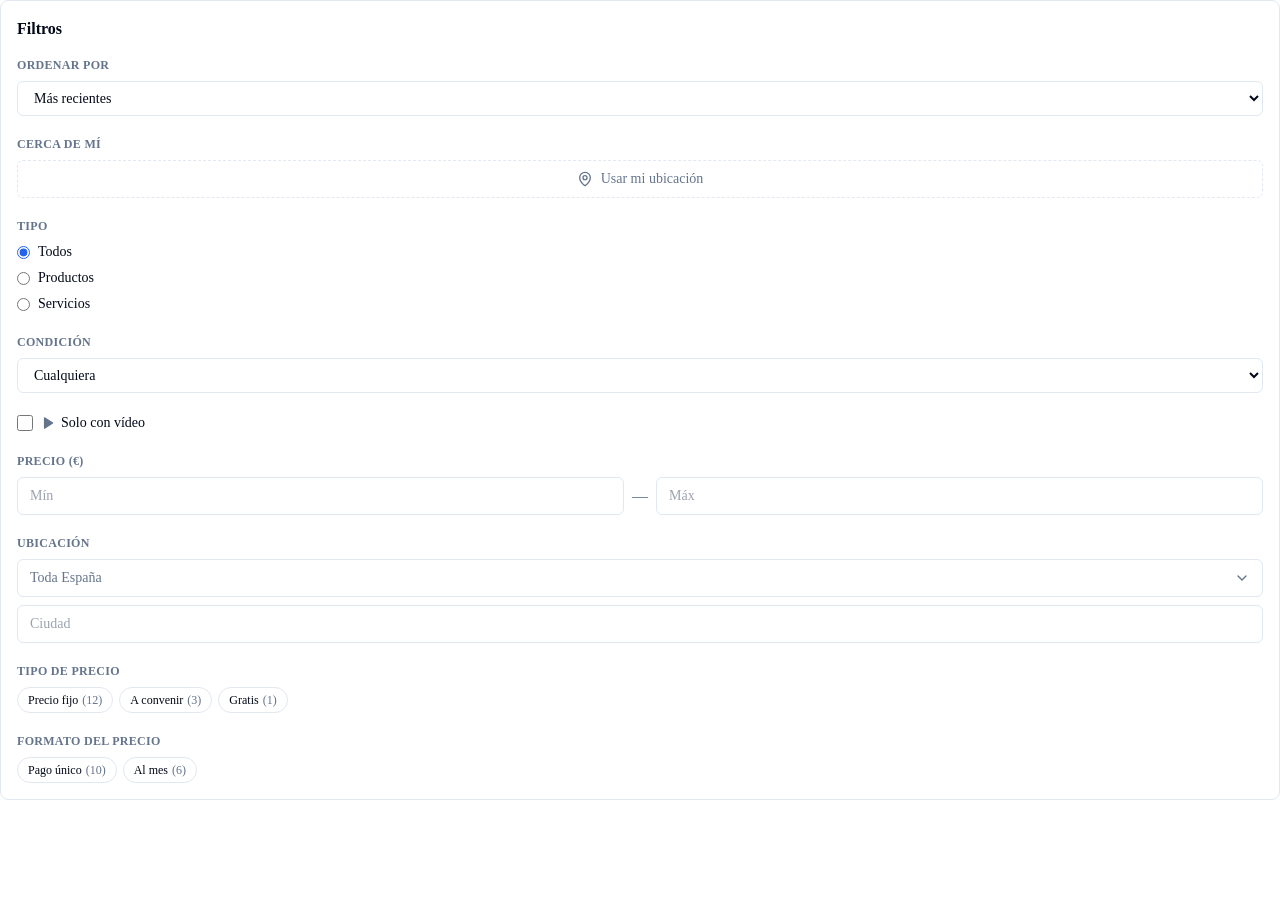
Test: B3 — hay UN solo filtro de provincia, y es el selector «Ubicación» › el control «Ubicación» sigue intacto, con sus provincias
expect the text "Ubicación" is shown: met, box [17,536,90,550]
Click the button with aria-label "Provincia".
click(66, 578)  # box [17,559,1263,597]
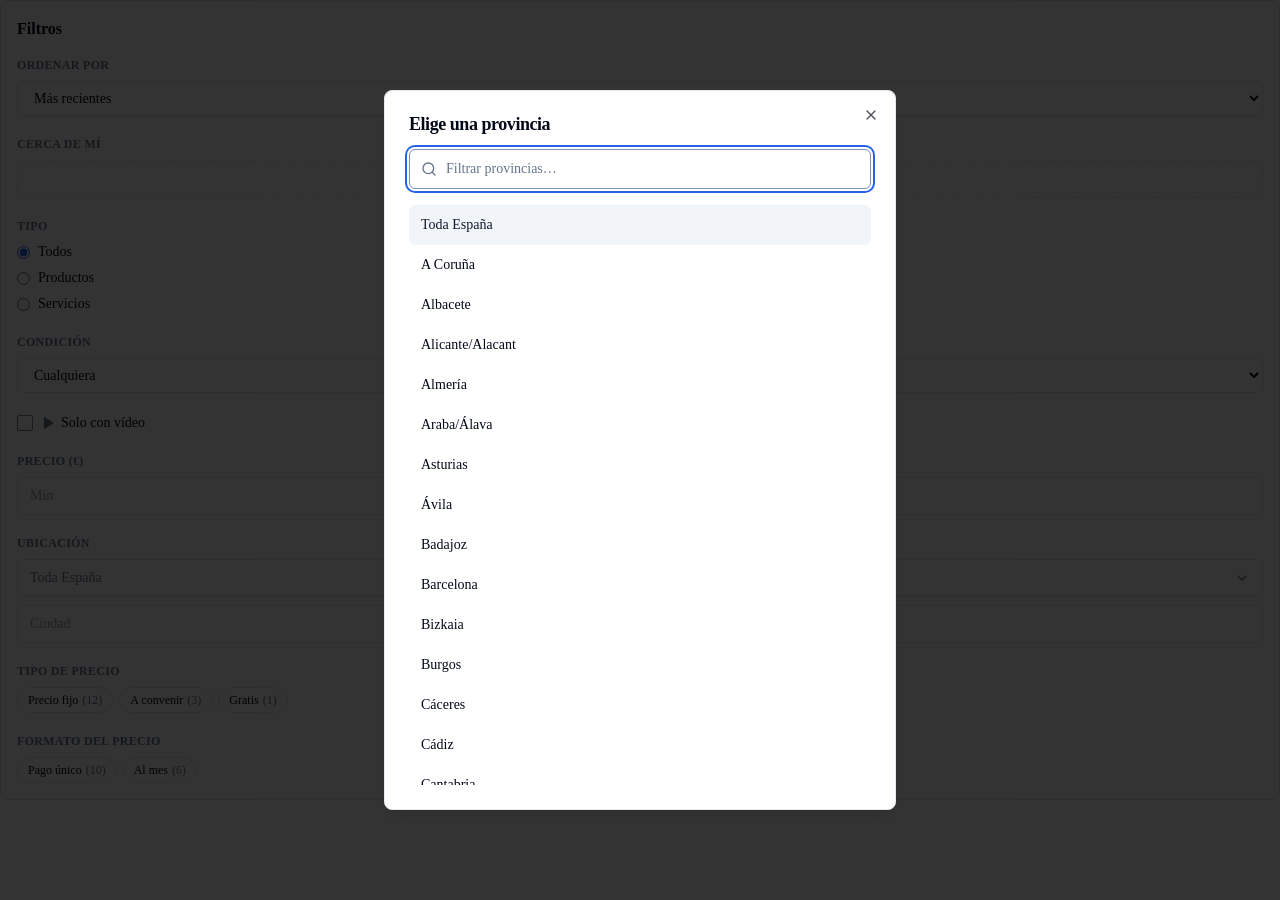
expect the option "Toda España" is shown: met, box [409,205,871,245]
